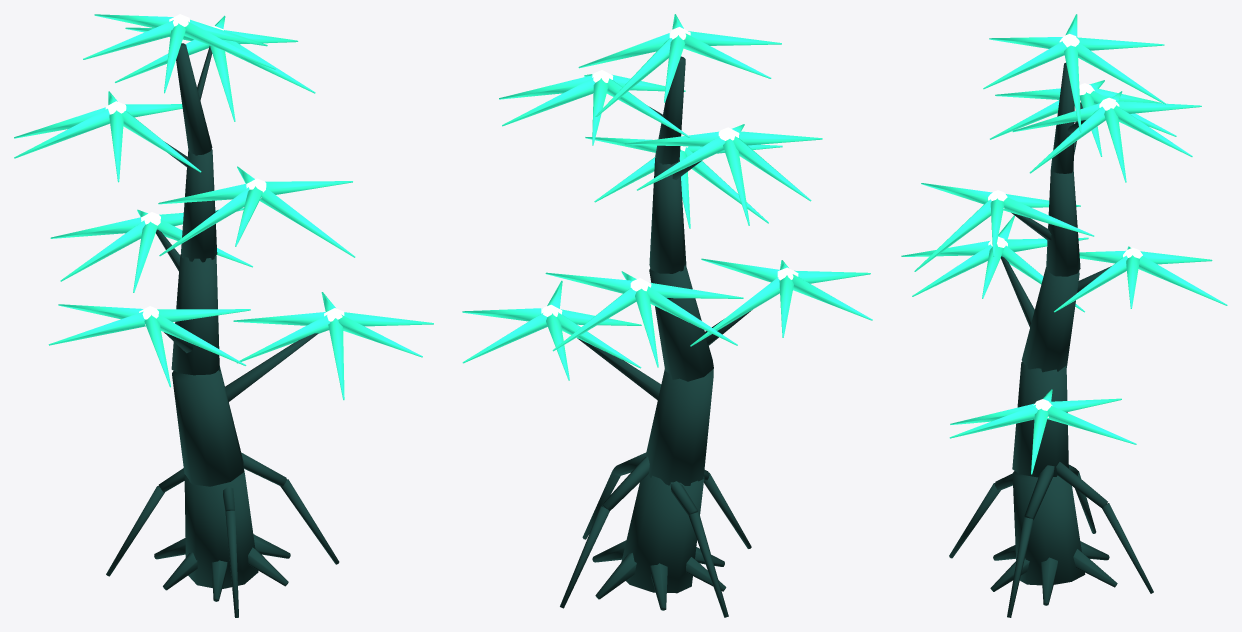
Rendered from boss_lair_tree_mangrove.glb.
The picture shows the model from 3 angles, left to right: view 1: azimuth 30°, elevation 25°; view 2: azimuth 150°, elevation 25°; view 3: azimuth 270°, elevation 25°; orthographic projection. The views are drawn at different scales.
Parts seen in each view (by area): view 1: Cone; view 2: Cone; view 3: Cone.
Boxes of the visible parts, x1,y1,x2,y2 form: Cone: [14, 14, 433, 617]; Cone: [462, 14, 872, 617]; Cone: [901, 14, 1227, 617].
Size of the model in its own units: 11.8 by 16.06 by 8.95.
